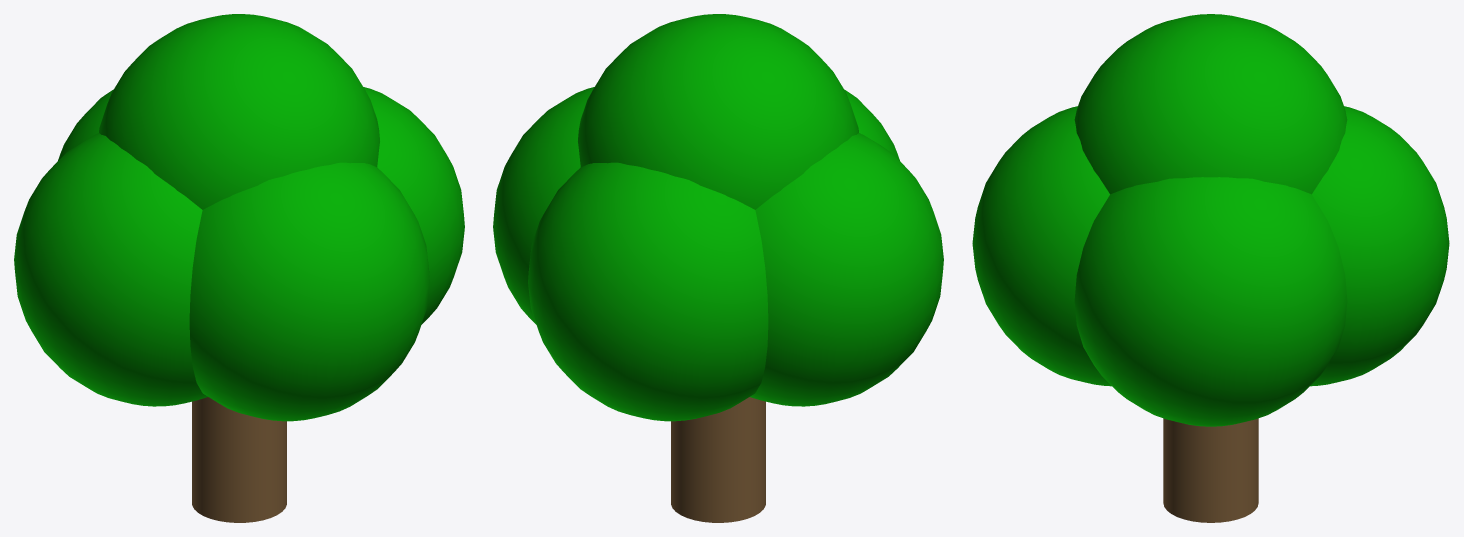
The model's file is tree_02.fbx.
3 renders of one model, left to right at view 1: azimuth 30°, elevation 25°; view 2: azimuth 150°, elevation 25°; view 3: azimuth 270°, elevation 25°, orthographic.
Visible parts, largest first — view 1: tree_02; view 2: tree_02; view 3: tree_02.
Part boxes in pixels (x1,y1,x2,y2): tree_02: [14, 14, 464, 522]; tree_02: [493, 14, 943, 522]; tree_02: [972, 14, 1449, 522].
Size of the model in its own units: 250 by 275 by 250.
